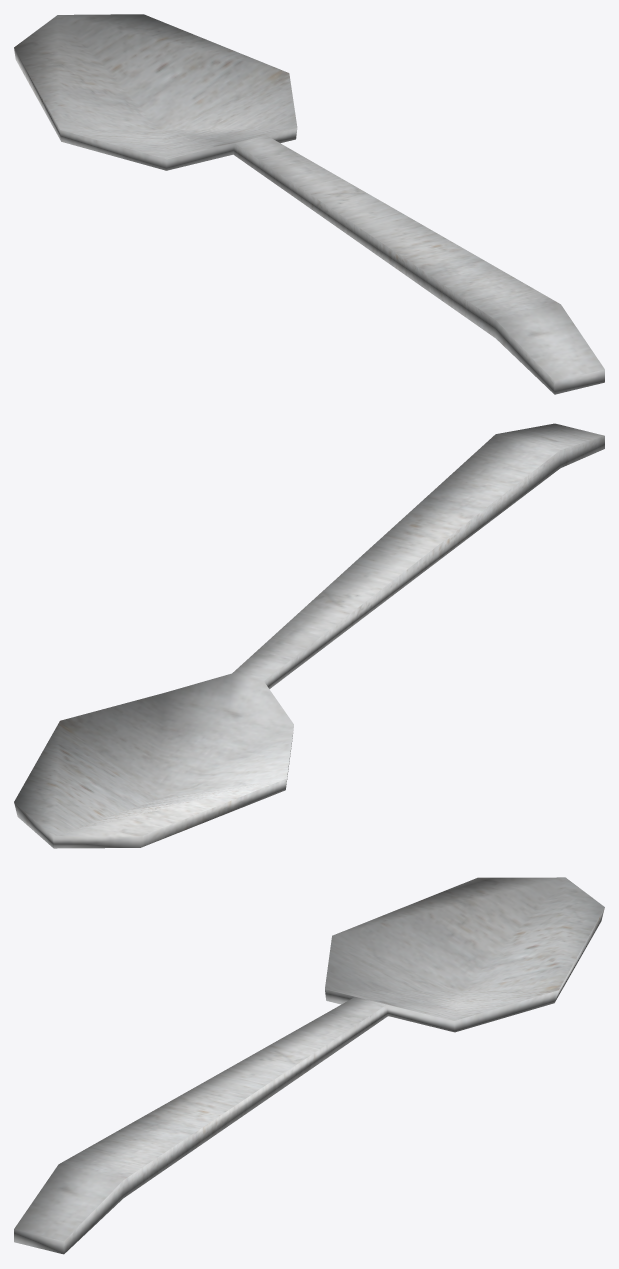
Rendered from M_Home_Garden_Bestek09.fbx.
The picture shows the model from 3 angles, top to bottom: view 1: azimuth 30°, elevation 25°; view 2: azimuth 150°, elevation 25°; view 3: azimuth 330°, elevation 25°; orthographic projection.
Parts seen in each view (by area): view 1: M_Home_Garden_Bestek09; view 2: M_Home_Garden_Bestek09; view 3: M_Home_Garden_Bestek09.
Boxes of the visible parts, x1=… form: M_Home_Garden_Bestek09: x1=14, y1=14, x2=604, y2=394; M_Home_Garden_Bestek09: x1=14, y1=423, x2=604, y2=848; M_Home_Garden_Bestek09: x1=14, y1=877, x2=604, y2=1254.
Size of the model in its own units: 6.33 by 2.65 by 25.21.
